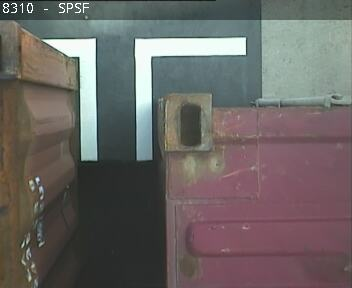groundmarker_1: (36, 36, 247, 162)
